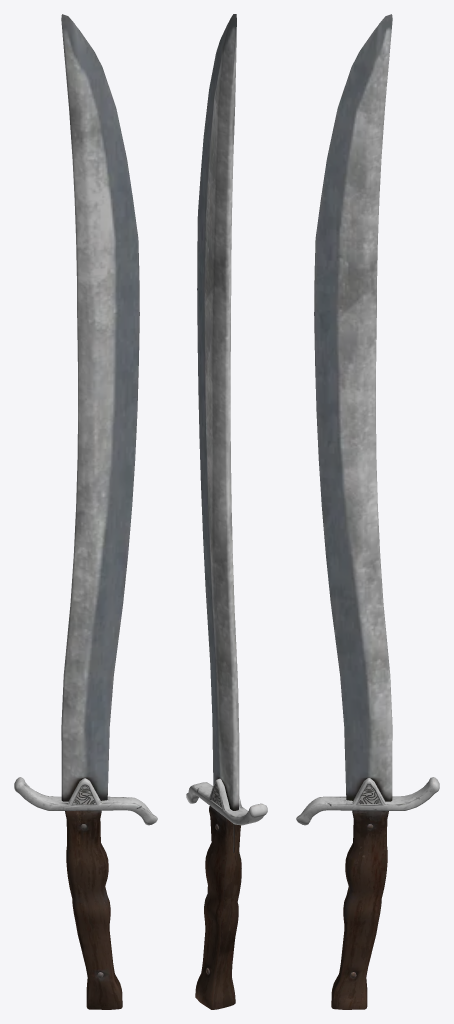
Rendered from wooden_handle_saber.glb.
3 views of the same model, side by side, from view 1: azimuth 90°, elevation 25°; view 2: azimuth 210°, elevation 25°; view 3: azimuth 270°, elevation 25° (orthographic).
Parts seen in each view (by area): view 1: wooden_handle_saber; view 2: wooden_handle_saber; view 3: wooden_handle_saber.
Part boxes in pixels (x1,y1,x2,y2): wooden_handle_saber: [14, 14, 157, 1009]; wooden_handle_saber: [186, 14, 267, 1009]; wooden_handle_saber: [296, 14, 439, 1009].
Bounding box in the file's own units: 0.0257 × 0.9355 × 0.1228.
1 material, 1 textured.
